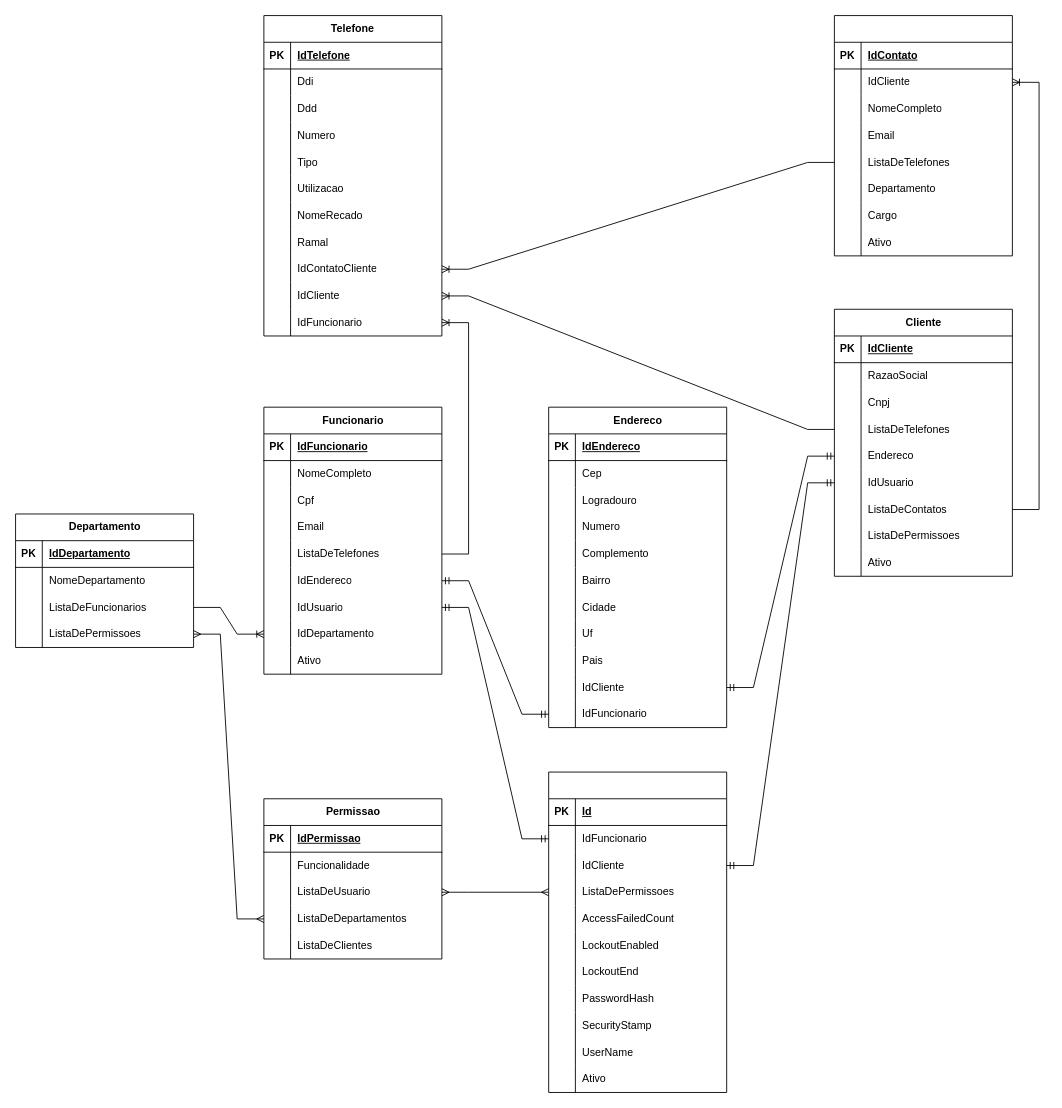
Some shapes in this 1062 by 1108 pixel diagram are drawn without their labels. Each missing label, with the box of its shape:
ContatoCliente: (833, 15, 1012, 256)
Usuario: (548, 771, 727, 1092)
